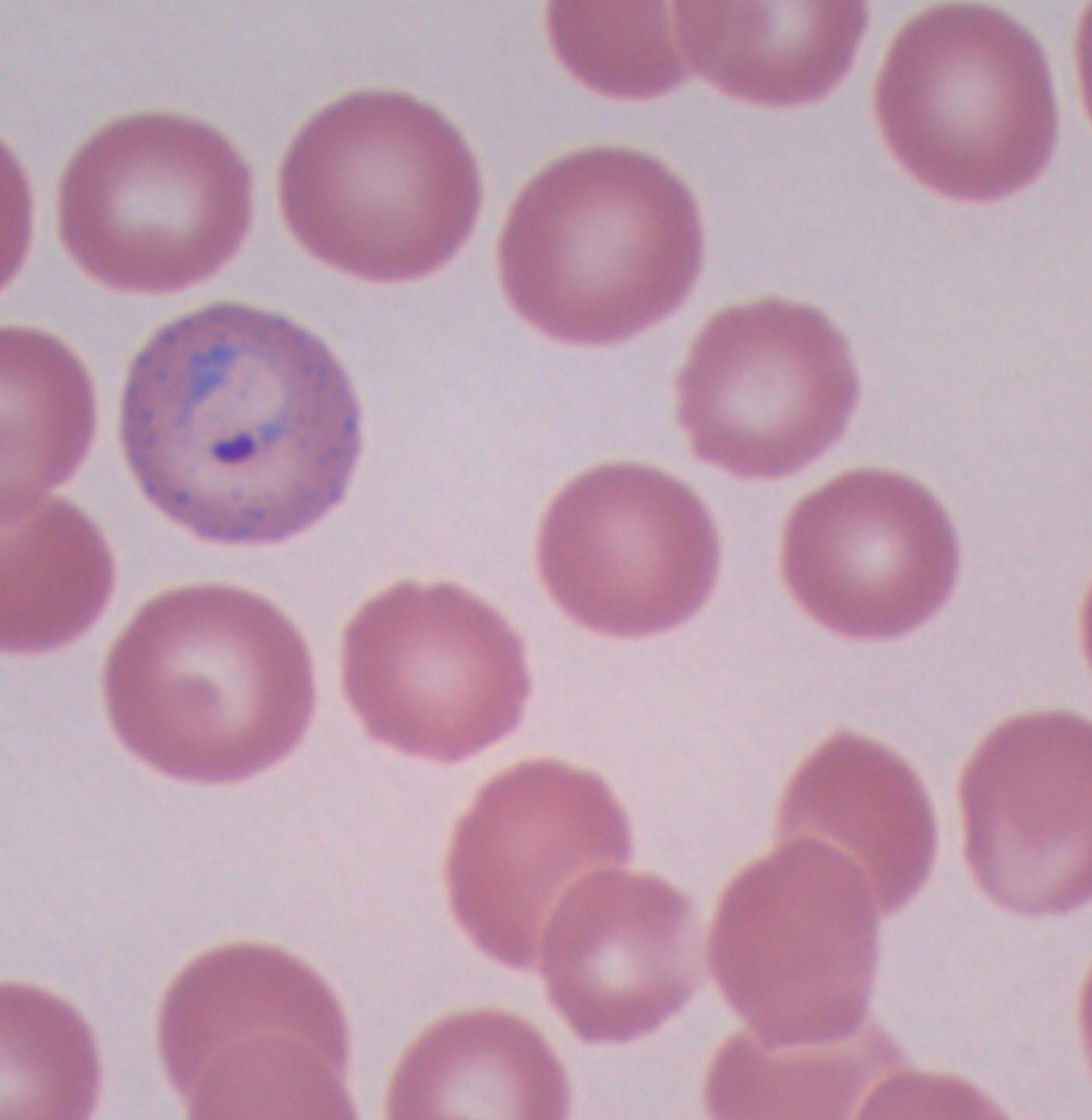Infected: (732, 574, 965, 811)
Uninfected: (776, 336, 985, 531), (390, 776, 588, 972), (609, 839, 809, 1027), (208, 71, 385, 280), (567, 351, 747, 544), (466, 156, 641, 354), (31, 921, 214, 1108), (370, 478, 554, 655), (841, 827, 1025, 1004), (234, 643, 413, 817), (131, 479, 309, 650), (745, 17, 933, 173), (155, 205, 317, 386), (392, 75, 556, 250), (2, 204, 131, 400), (220, 1017, 421, 1118), (528, 1, 702, 106), (980, 469, 1086, 622)
